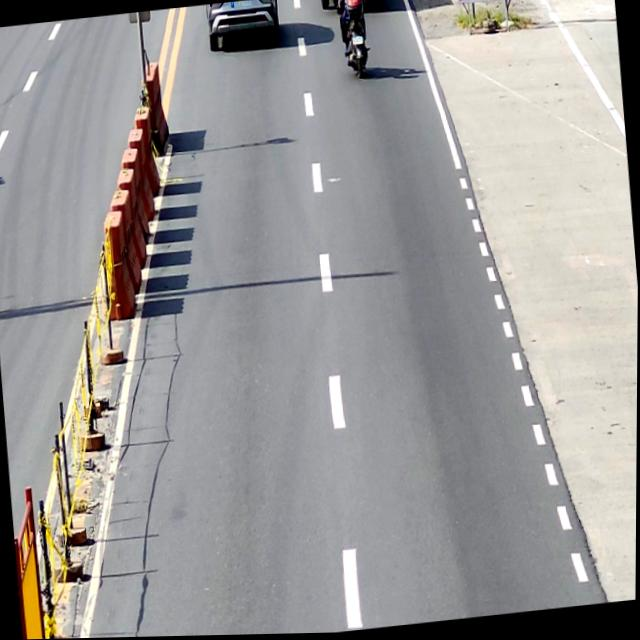Car: (205, 0, 281, 53), (319, 0, 385, 13)
License-Plate: (348, 33, 365, 50)
Motorcycle: (334, 0, 372, 81)
